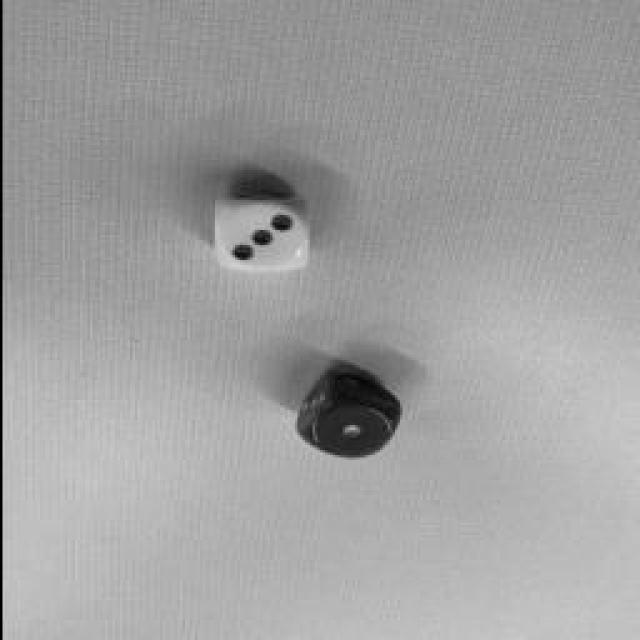dice_1: (310, 400, 390, 458)
dice_3: (215, 200, 303, 270)
